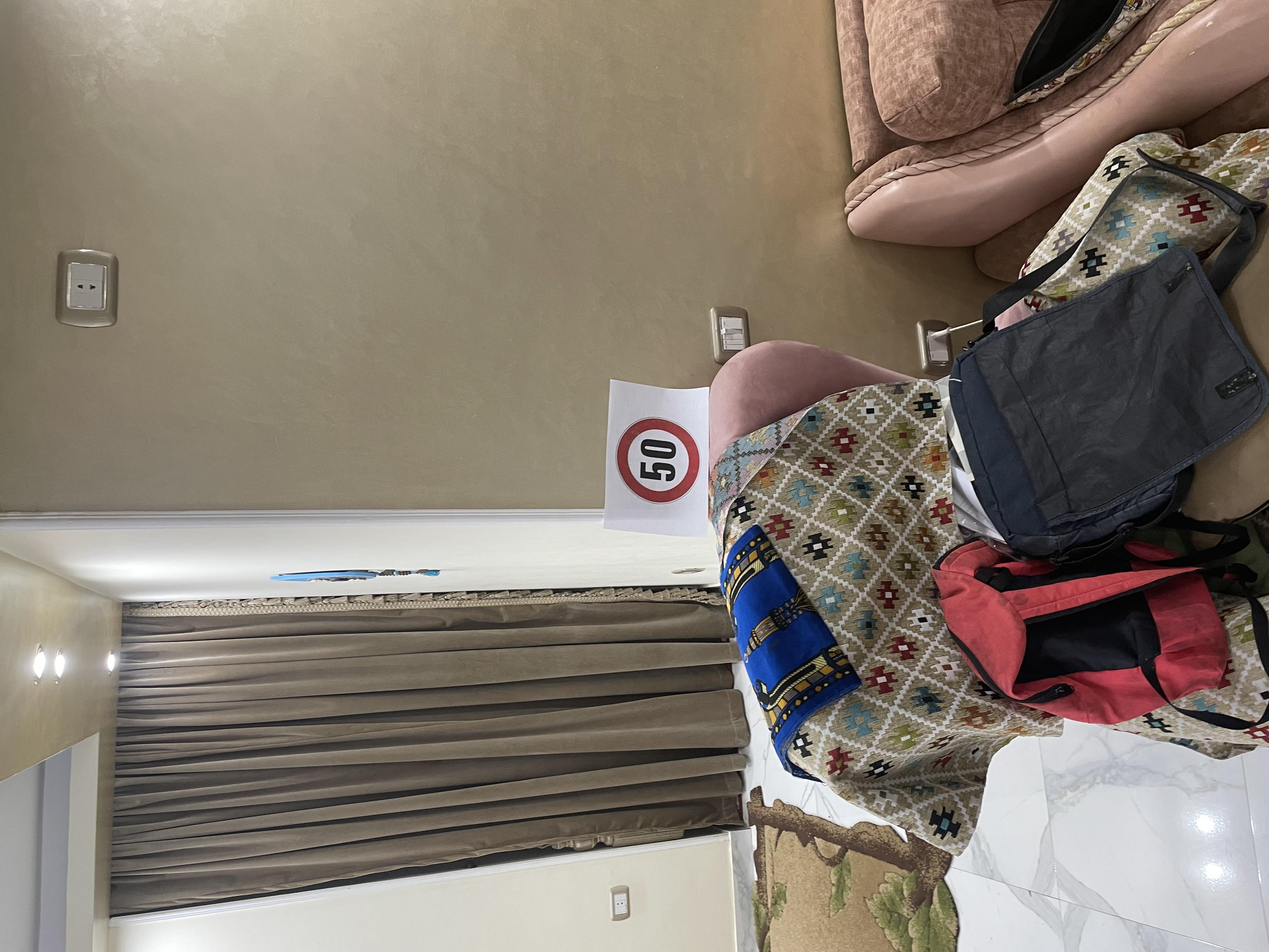50-Speed: (598, 460, 716, 526)
